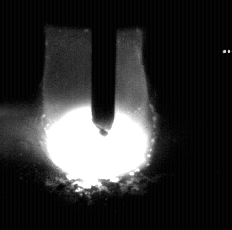arame: (92, 0, 116, 137)
poca: (44, 0, 151, 230)
